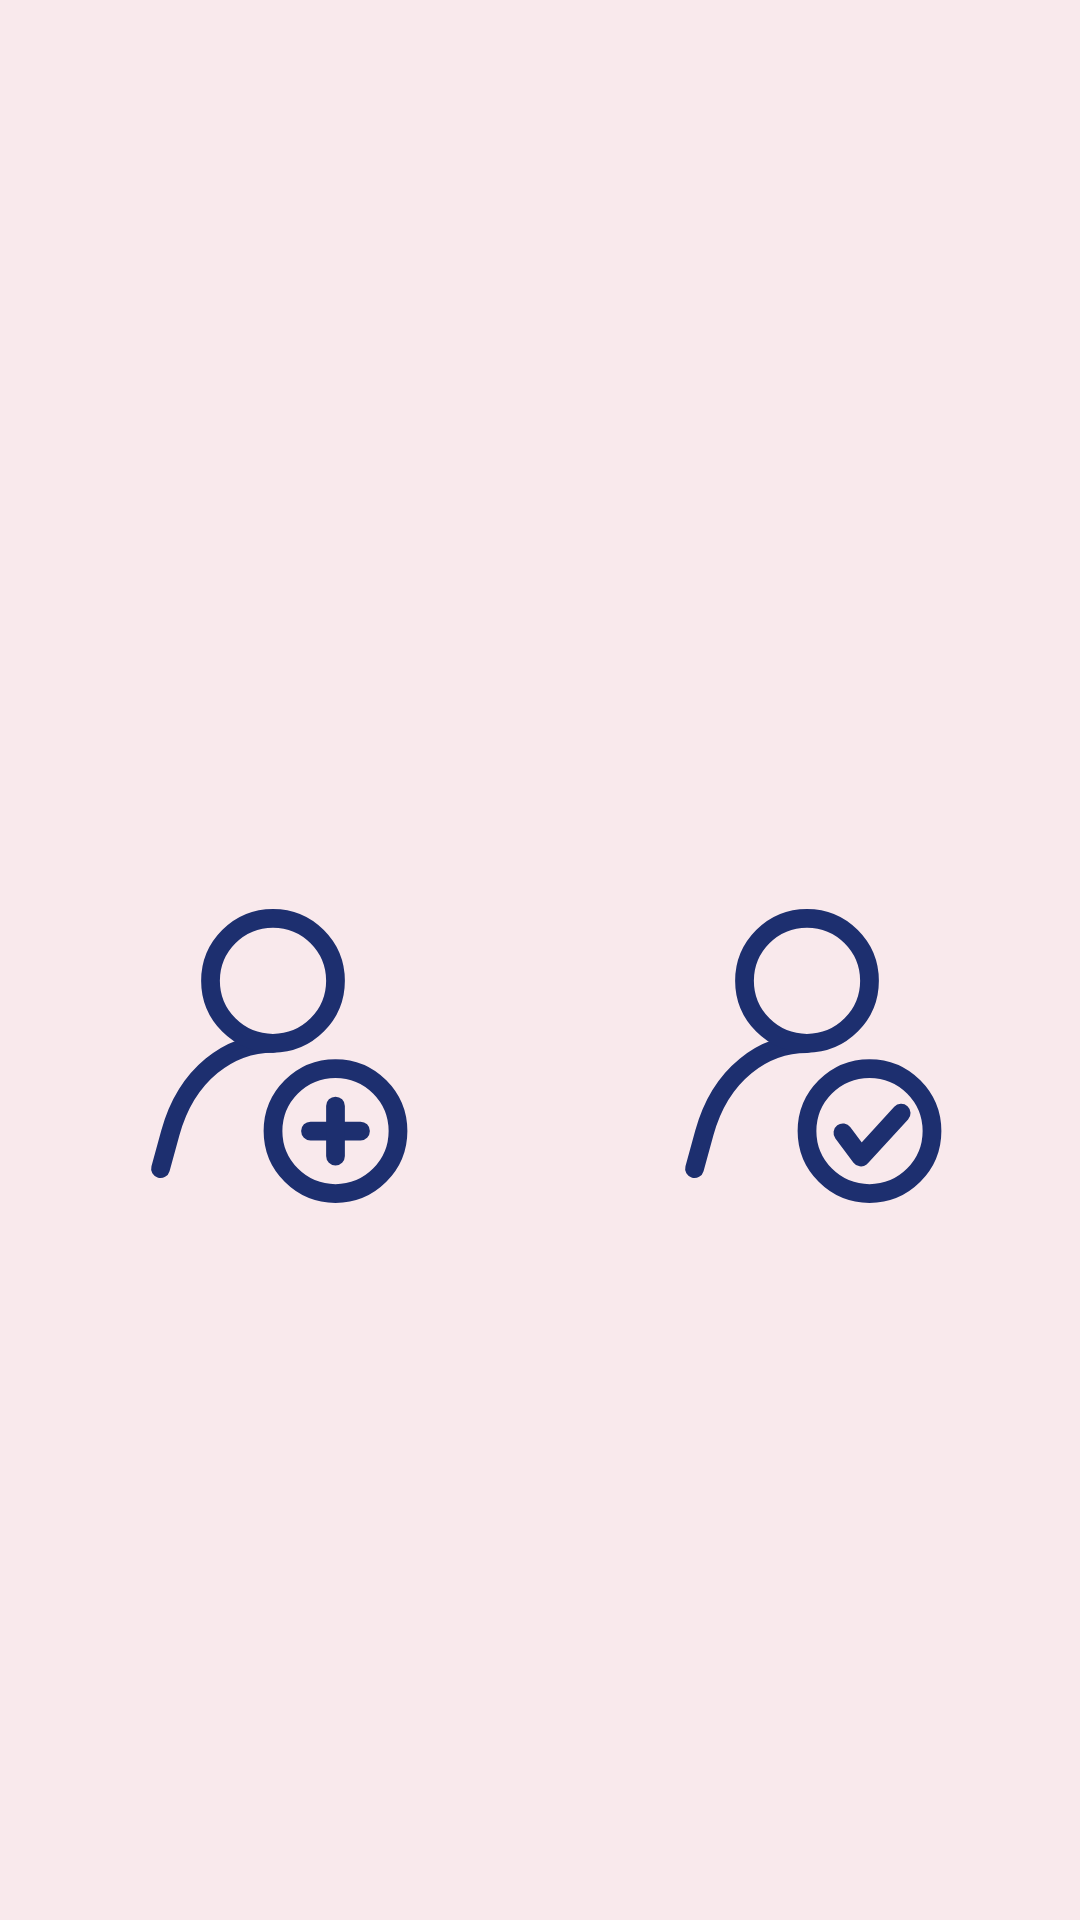

Where to tap for icons on this 1080px×1920px app screen, as point (x, y):
user login: point (813, 1056)
user register: point (279, 1056)
